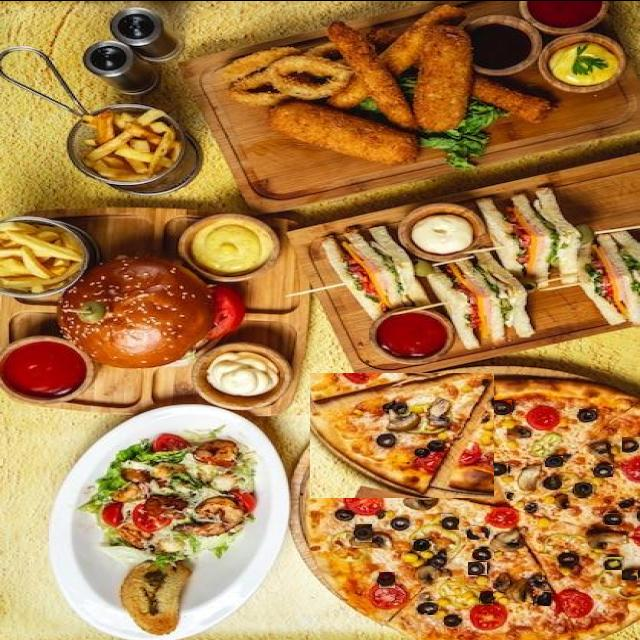olive: (380, 455, 408, 469), (415, 600, 439, 614), (558, 551, 579, 566), (467, 525, 489, 539), (355, 523, 372, 541), (441, 513, 459, 529), (622, 436, 640, 452), (490, 462, 510, 476), (389, 517, 412, 529), (603, 556, 624, 569), (533, 590, 551, 605), (494, 399, 512, 414), (472, 546, 494, 558), (376, 423, 396, 436), (379, 571, 395, 587), (574, 482, 592, 496), (468, 561, 487, 574), (428, 555, 448, 567), (412, 538, 432, 550), (593, 464, 613, 476), (579, 408, 596, 422), (603, 512, 622, 524), (544, 475, 560, 488), (618, 496, 635, 508), (426, 419, 446, 429), (545, 455, 563, 466), (444, 615, 461, 626), (480, 590, 493, 604), (337, 509, 353, 520), (622, 569, 638, 579), (525, 501, 538, 513), (413, 411, 427, 422), (482, 446, 488, 463), (506, 492, 514, 498)
pizza: (301, 377, 640, 640), (310, 372, 494, 497)
